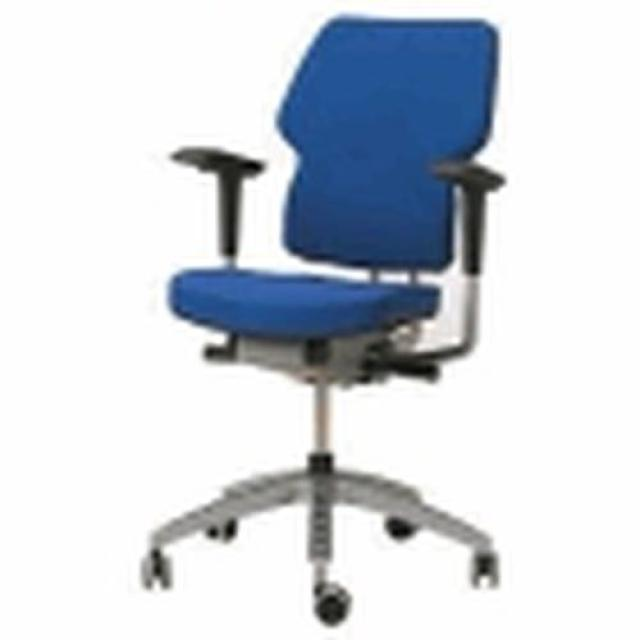swivelchair: (138, 14, 506, 628)
